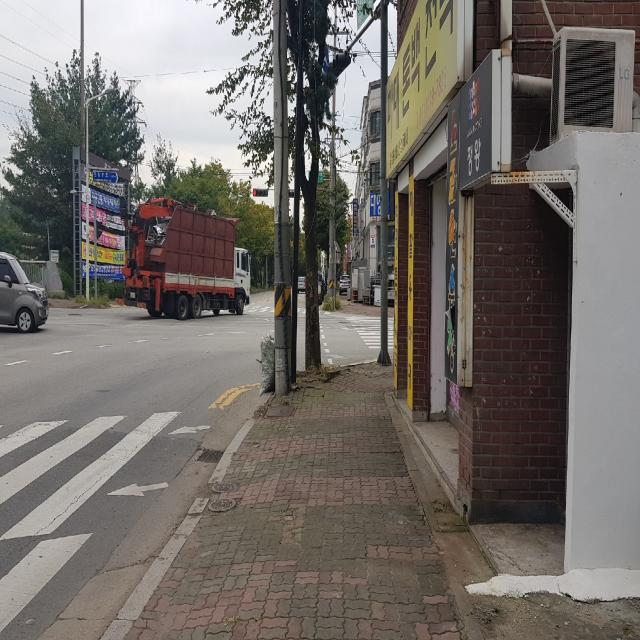횡단보도: (0, 426, 149, 552), (344, 316, 394, 350)
